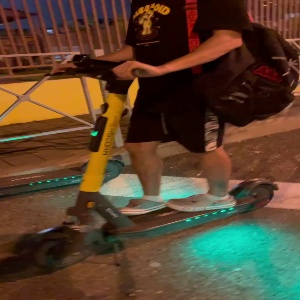human on a scooter: (23, 1, 300, 270)
